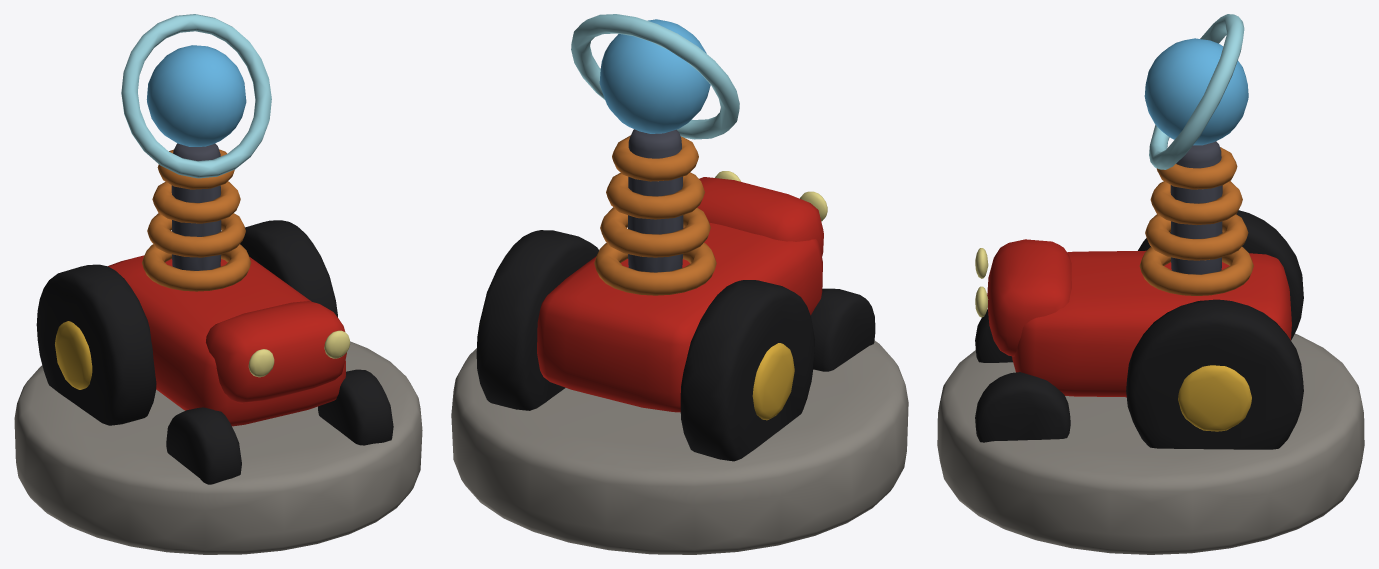
File: TraktorTesla.fbx
3 views of the same model, side by side, from view 1: azimuth 30°, elevation 25°; view 2: azimuth 150°, elevation 25°; view 3: azimuth 270°, elevation 25° (orthographic). The views are drawn at different scales.
Parts seen in each view (by area): view 1: TraktorTesla; view 2: TraktorTesla; view 3: TraktorTesla.
Part boxes in pixels (x1,y1,x2,y2): TraktorTesla: (14,14,422,554); TraktorTesla: (451,14,908,554); TraktorTesla: (937,14,1364,554).
Size of the model in its own units: 0.9339 by 1.09 by 0.9339.
